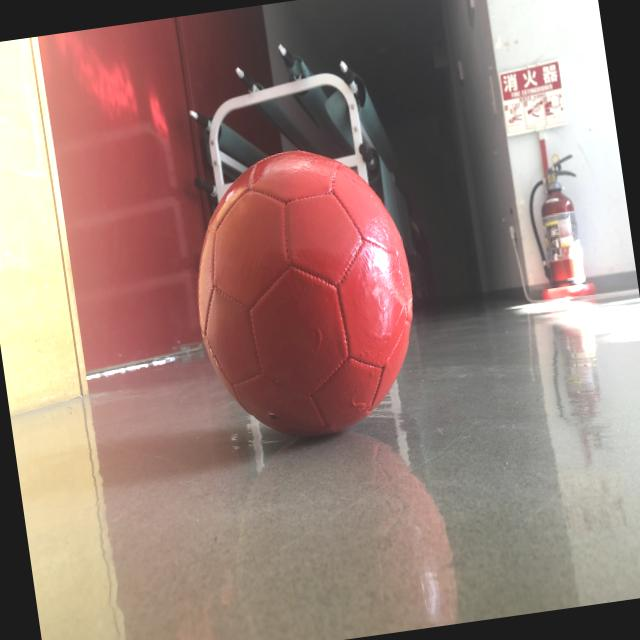red_ball: (176, 137, 430, 450)
